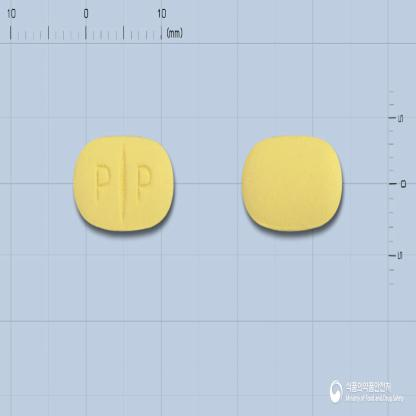pill: (240, 135, 344, 233), (72, 133, 175, 231)
